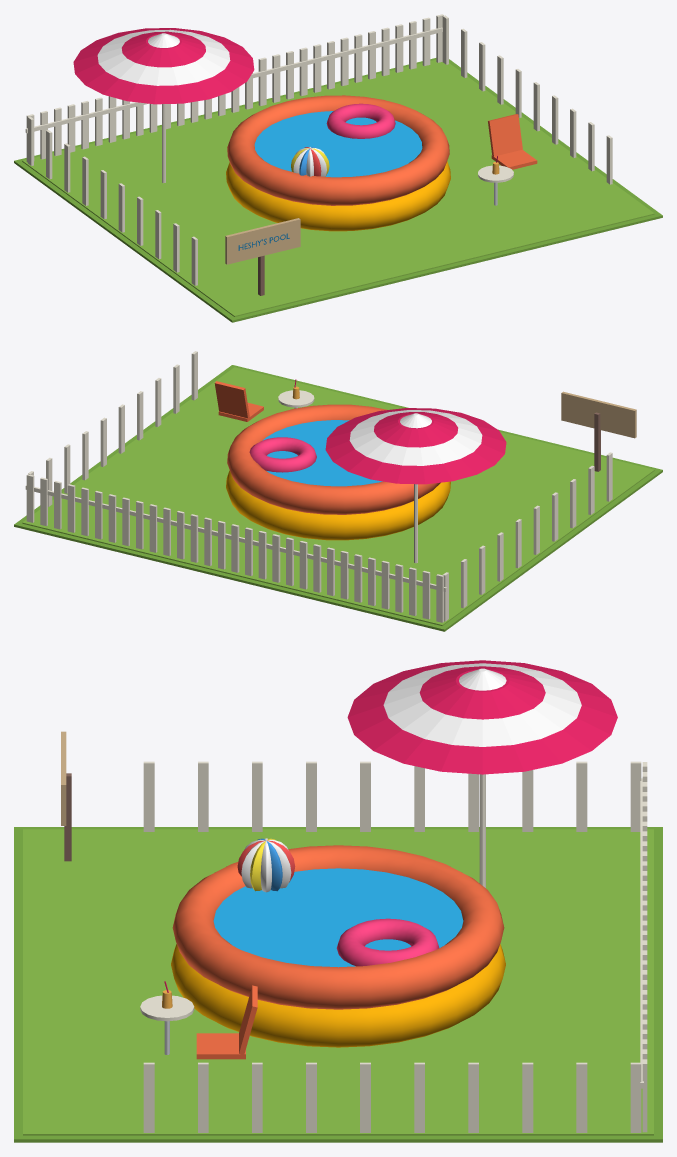
Rendered from cameos_heshy_pool.glb.
The picture shows the model from 3 angles, top to bottom: view 1: azimuth 30°, elevation 25°; view 2: azimuth 150°, elevation 25°; view 3: azimuth 270°, elevation 25°; orthographic projection. The views are drawn at different scales.
Parts seen in each view (by area): view 1: HeshyPool_body; view 2: HeshyPool_body; view 3: HeshyPool_body.
Part boxes in pixels (x1,y1,x2,y2): HeshyPool_body: (14, 14, 662, 322); HeshyPool_body: (14, 351, 662, 631); HeshyPool_body: (14, 660, 662, 1142).
Bounding box in the file's own units: 8.2 × 2.76 × 7.2.
